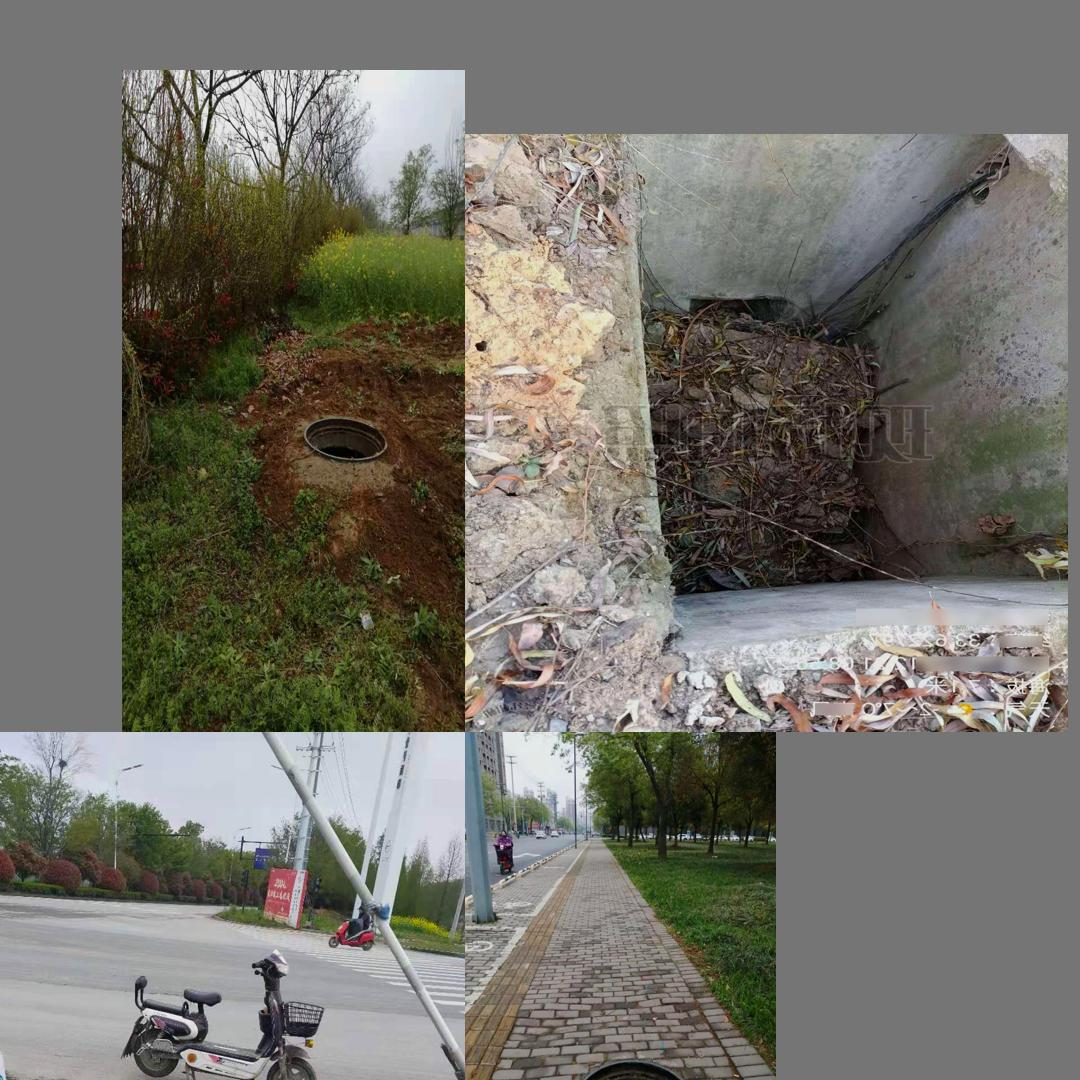lose: (567, 145, 1059, 688), (294, 411, 391, 482), (570, 1058, 700, 1080)
